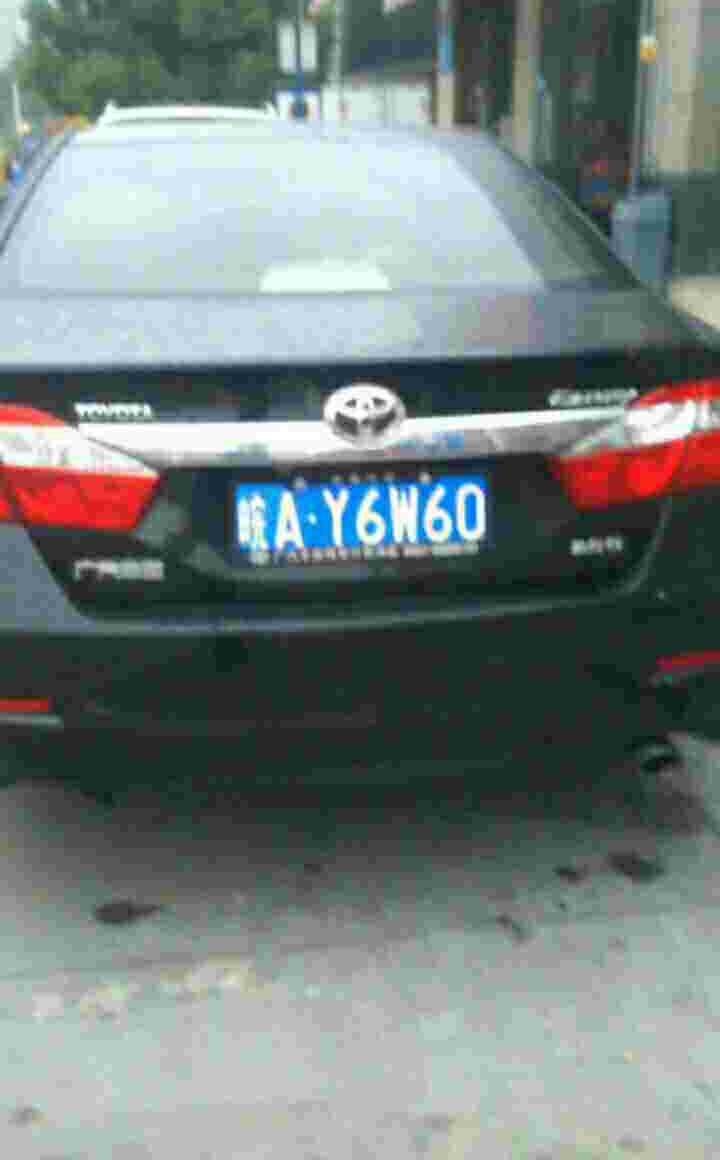plate: (236, 464, 498, 569)
